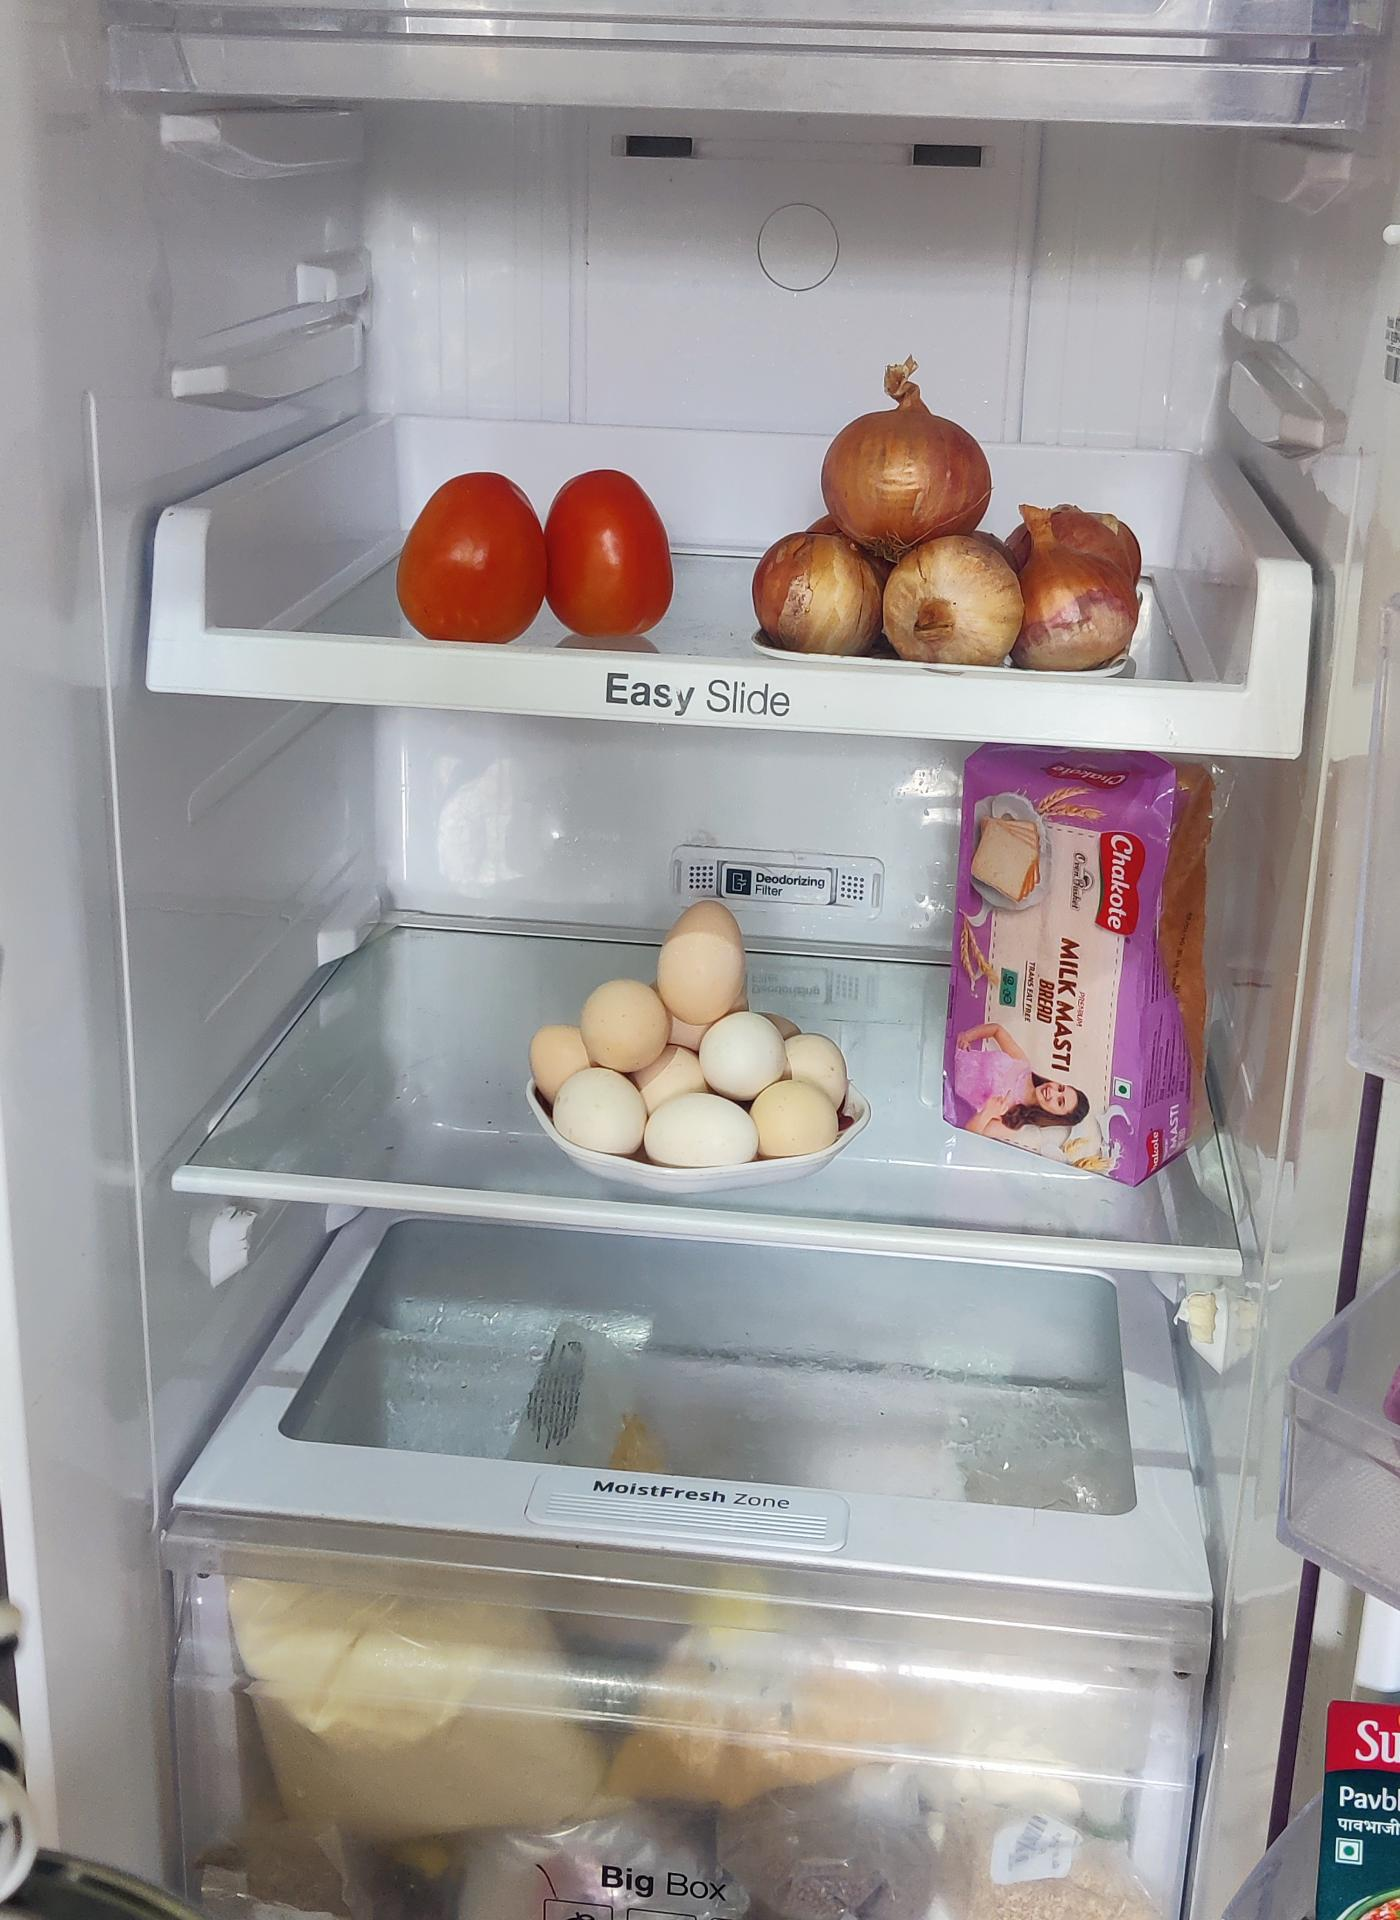bread: (968, 745, 1206, 1166)
egg: (534, 909, 845, 1175)
onion: (757, 414, 1138, 666)
tomato: (403, 467, 677, 644)
